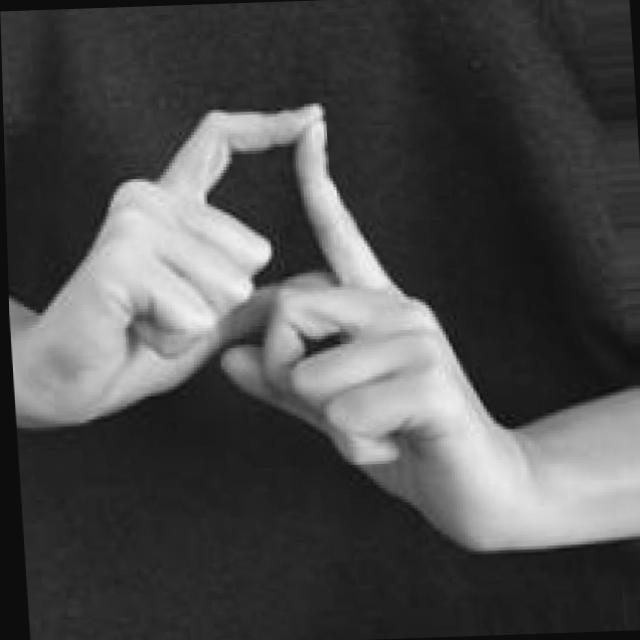D: (67, 99, 490, 564)
